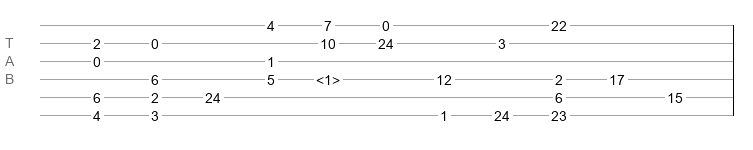0: (93, 54, 101, 64), (151, 36, 159, 46), (382, 18, 390, 28)
1: (267, 54, 275, 64), (440, 108, 448, 118)
10: (320, 36, 336, 46)
12: (436, 72, 452, 82)
15: (667, 90, 683, 100)
17: (609, 72, 625, 82)
2: (93, 36, 101, 46), (151, 90, 159, 100), (555, 72, 563, 82)
22: (551, 18, 567, 28)
23: (551, 108, 567, 118)
24: (205, 90, 221, 100), (378, 36, 394, 46), (494, 108, 510, 118)
3: (151, 108, 159, 118), (498, 36, 506, 46)
4: (93, 108, 101, 118), (267, 18, 275, 28)
5: (267, 72, 275, 82)
6: (93, 90, 101, 100), (151, 72, 159, 82), (555, 90, 563, 100)
7: (324, 18, 332, 28)
harmonic: (316, 72, 340, 82)
